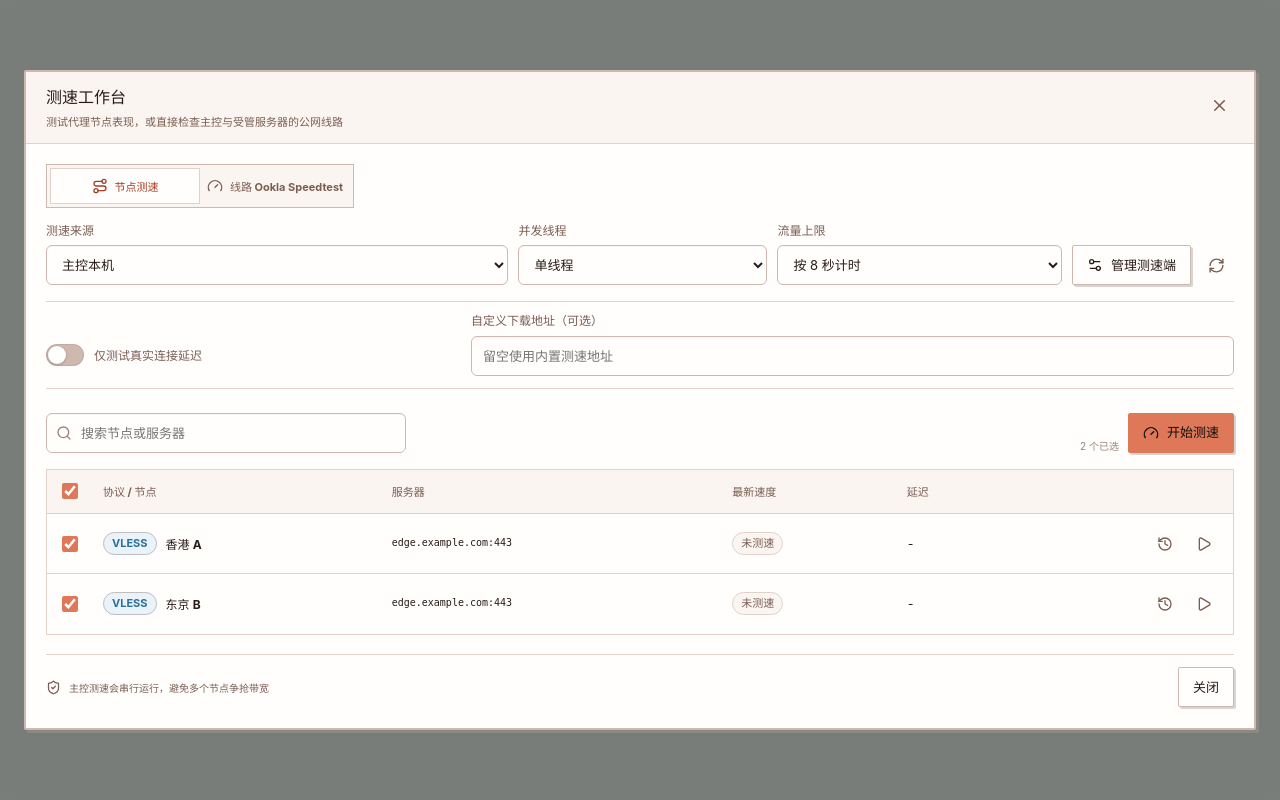
Test: nodes speedtest workbench › reports partial speedtest submission and refreshes after every request settles
This screenshot has width=1280, height=800.
What coordinates should you click on to do the following:
click the button "开始测速"
I would click on:
 (1181, 433)
Its box is [1128,413,1234,453].
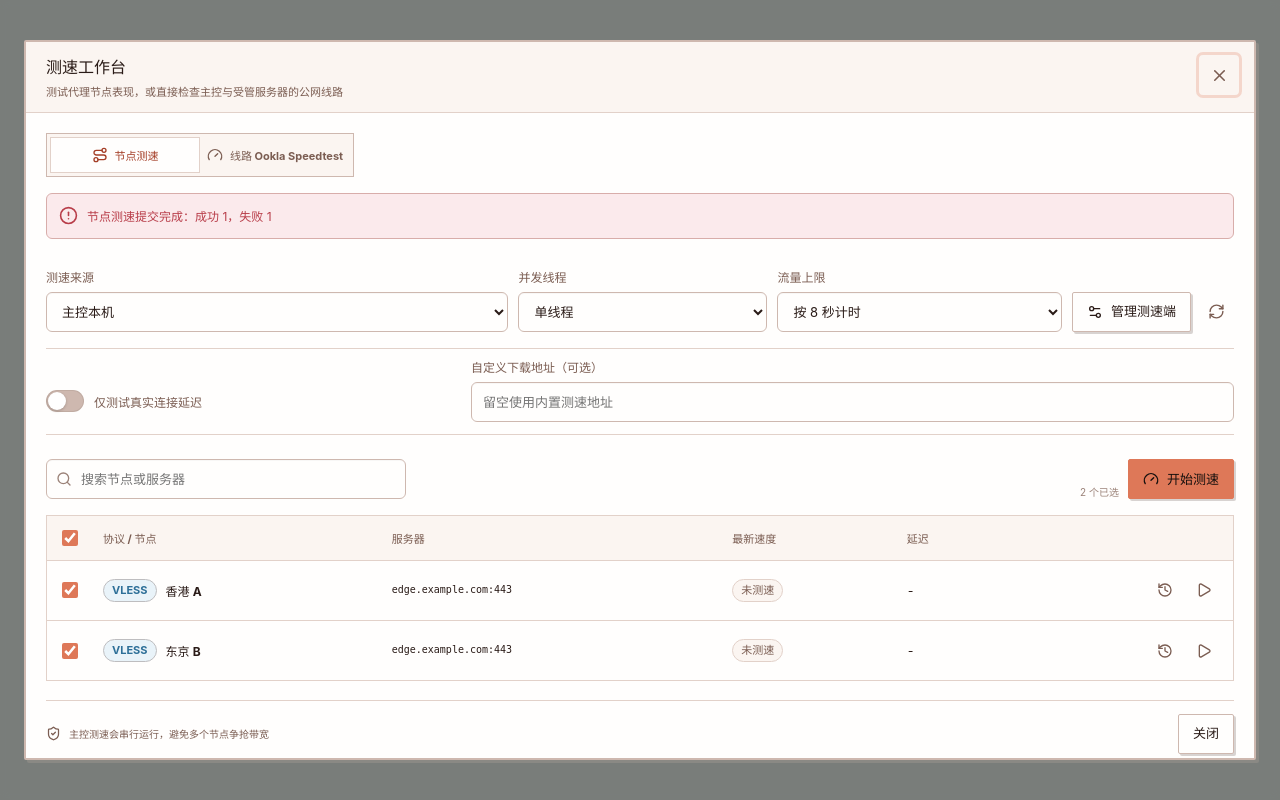
Now the message reads "节点测速提交完成：成功 1，失败 1", box [87,209,272,224]
